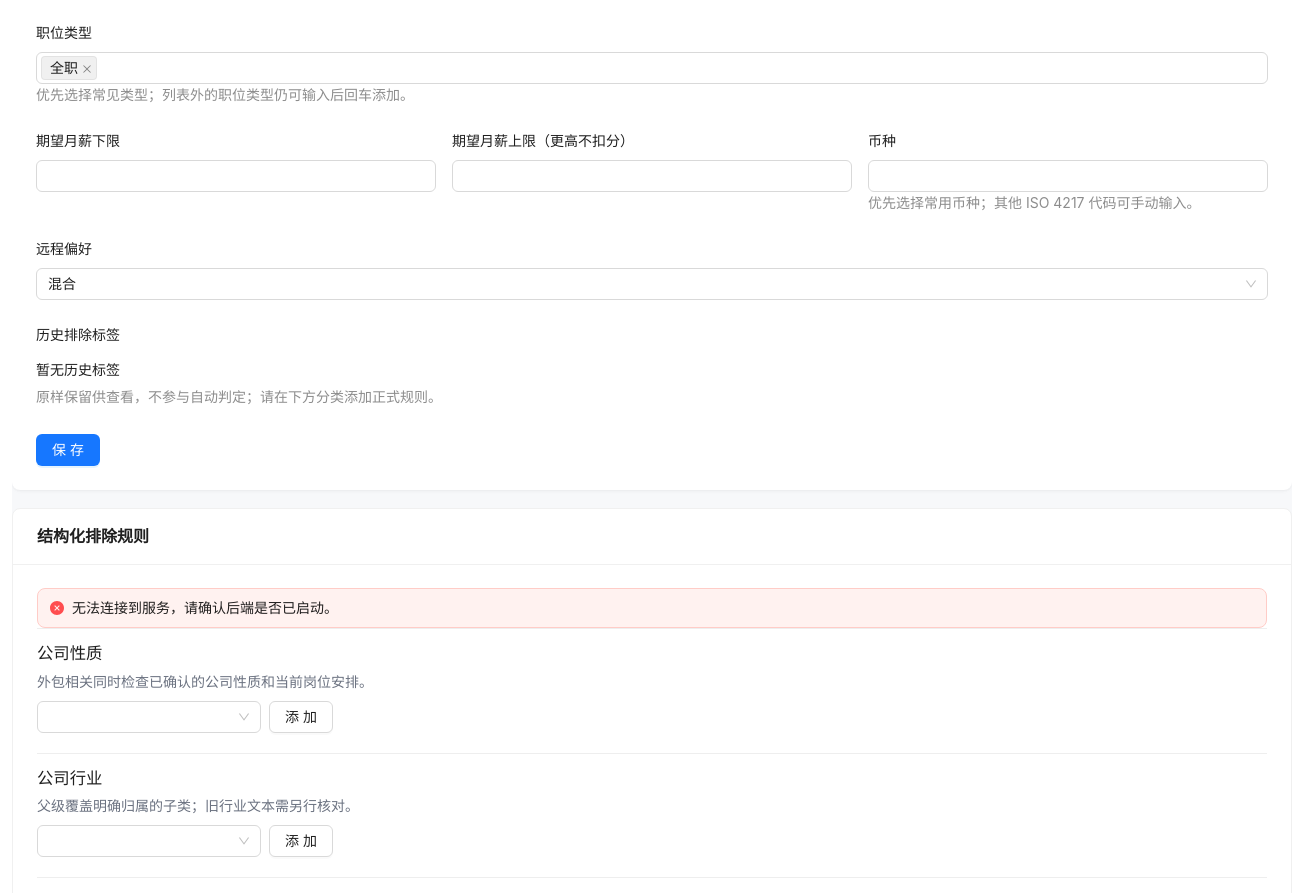
Test case: 版本冲突时显示提示并重新读取最新档案
The width and height of the screenshot is (1292, 893).
(page scrolled)
Click the button with test id "save-preference": (68, 450) x1=36 y1=434 x2=100 y2=466
(page scrolled)
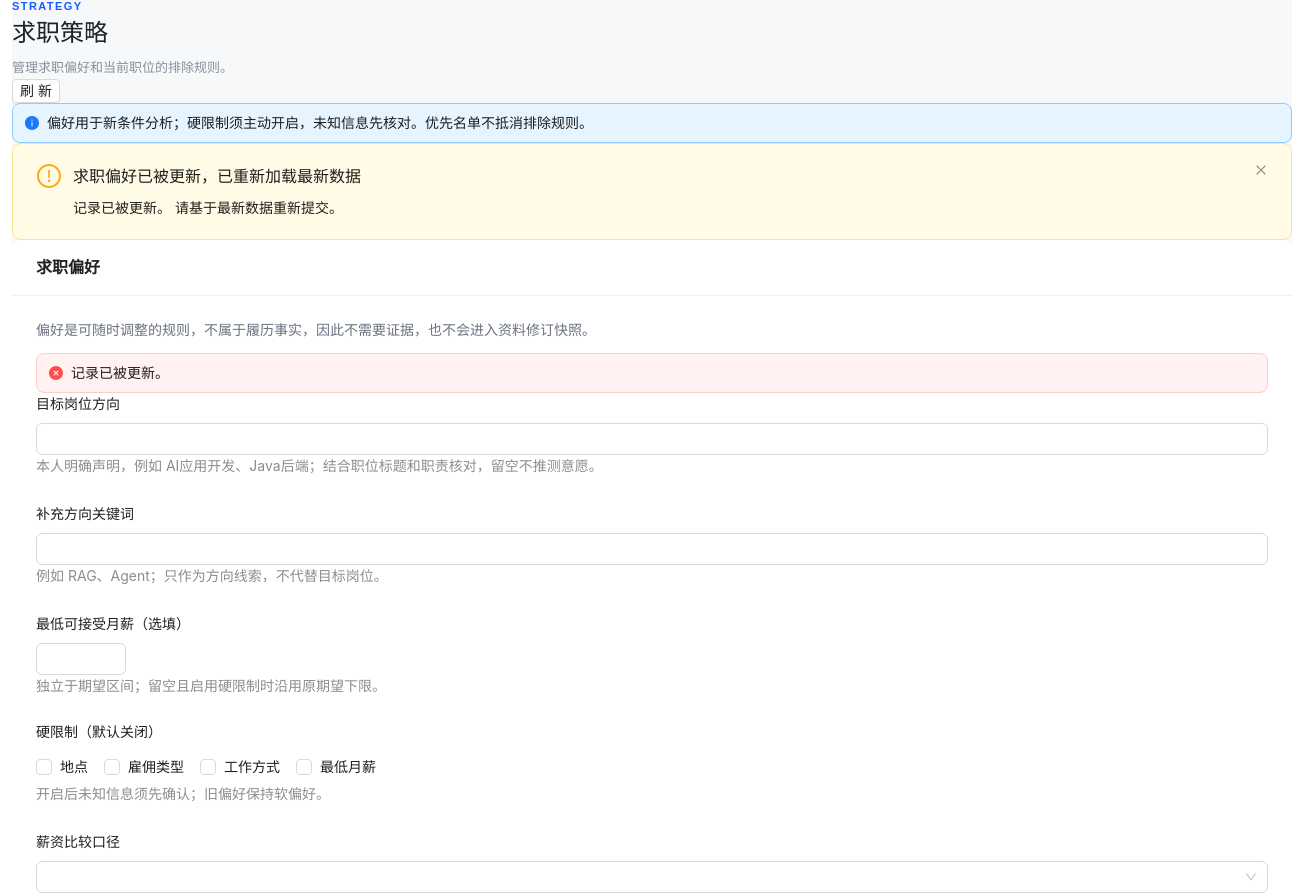
Expected: the message with test id "strategy-conflict" shows "记录已被更新", x1=73 y1=199 x2=343 y2=216
